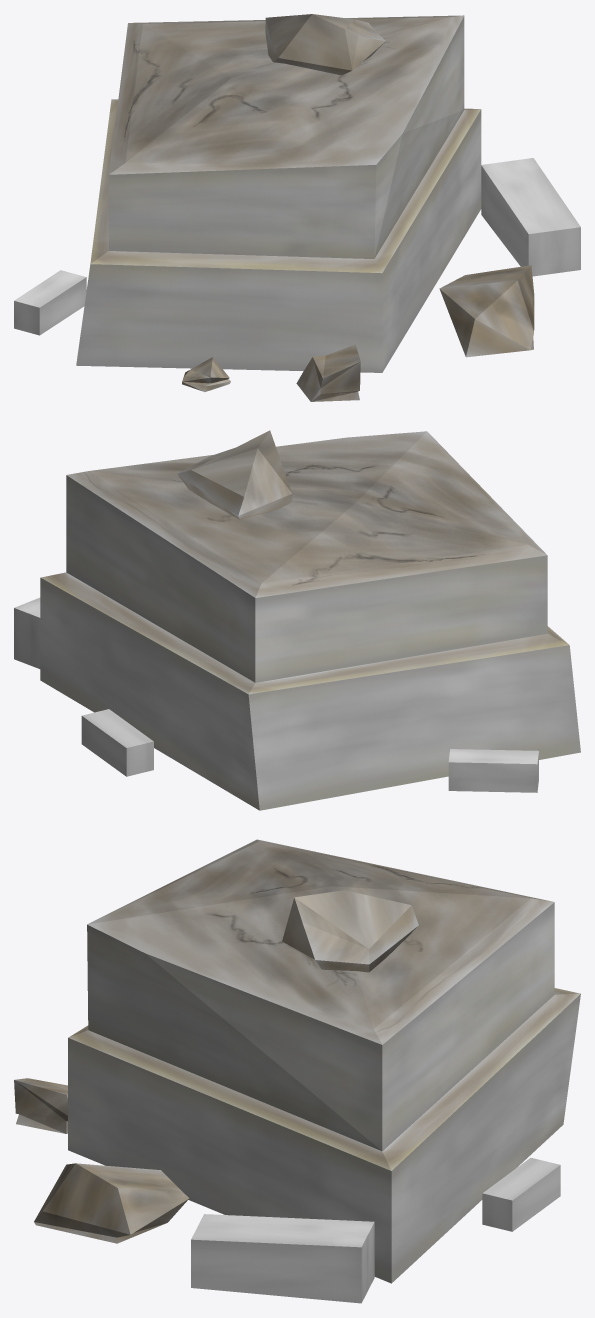
File: mine_pierre.obj
3 renders of one model, top to bottom at view 1: azimuth 30°, elevation 25°; view 2: azimuth 150°, elevation 25°; view 3: azimuth 270°, elevation 25°, orthographic. The views are drawn at different scales.
Visible parts, largest first — view 1: Plane; view 2: Plane; view 3: Plane.
Part boxes in pixels (x1=…): Plane: x1=14, y1=14, x2=580, y2=401; Plane: x1=14, y1=430, x2=580, y2=810; Plane: x1=14, y1=839, x2=580, y2=1303.
Size of the model in its own units: 2.34 by 1.12 by 1.99.
